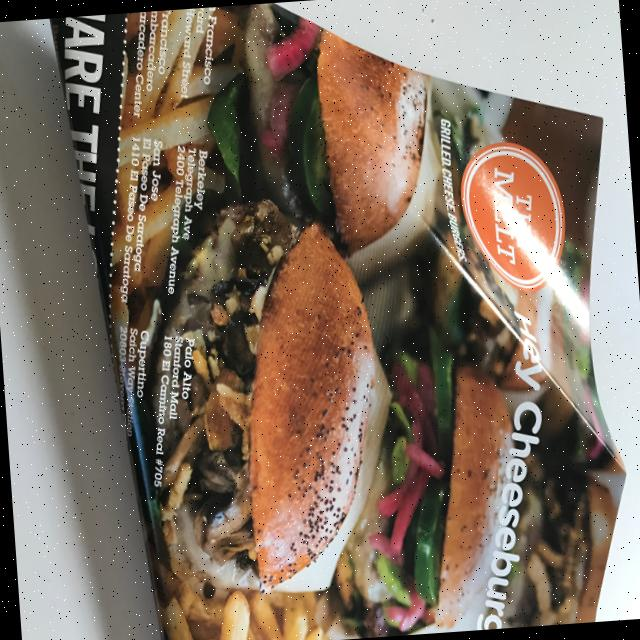paper: (46, 0, 638, 640)
